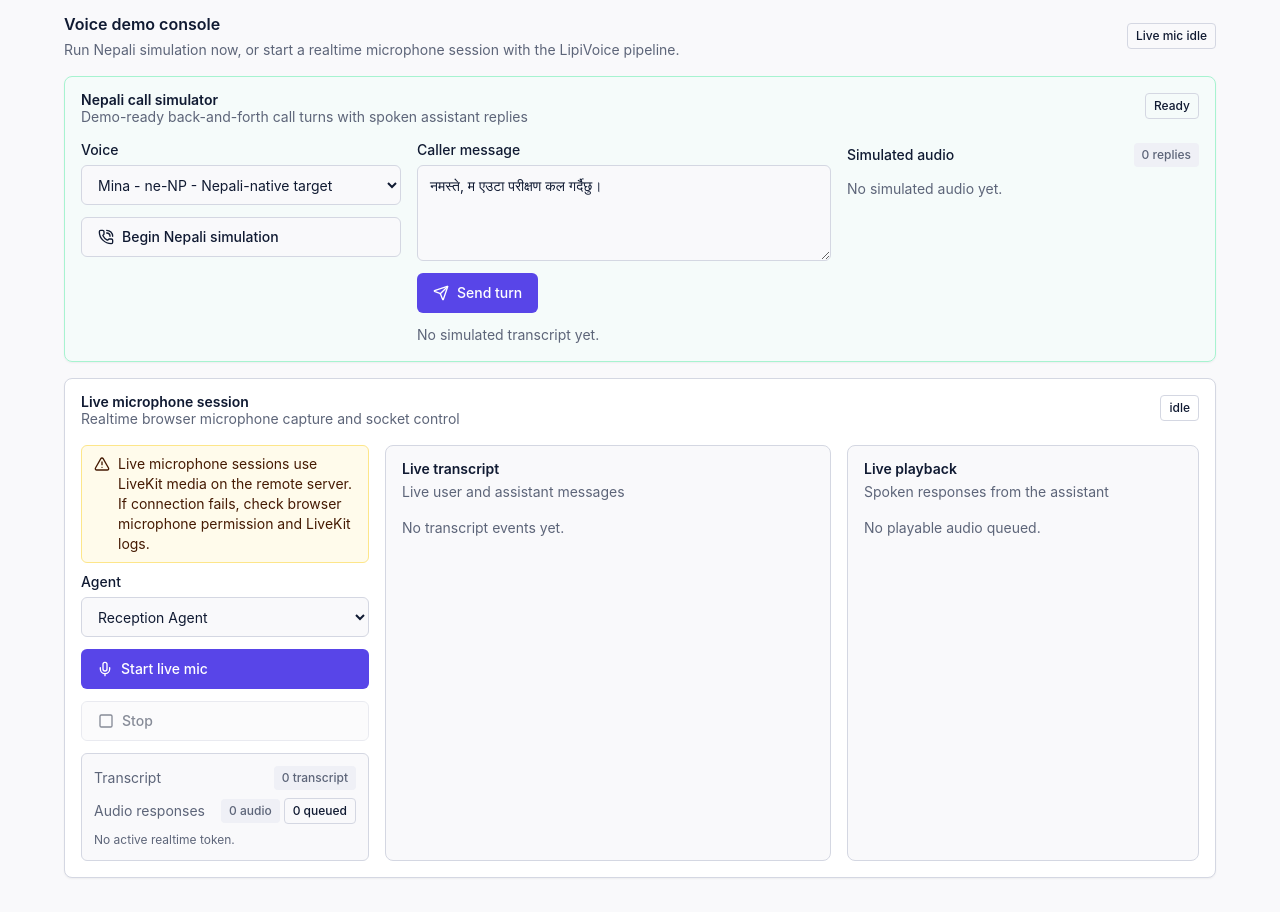
VoiceConsolePage › loads agents, starts the selected agent session, and shows session metrics
The image size is (1280, 912).
Select "Support Agent" in the dropdown labelled "Agent" at coordinates (225, 617), box [81,597,369,637]
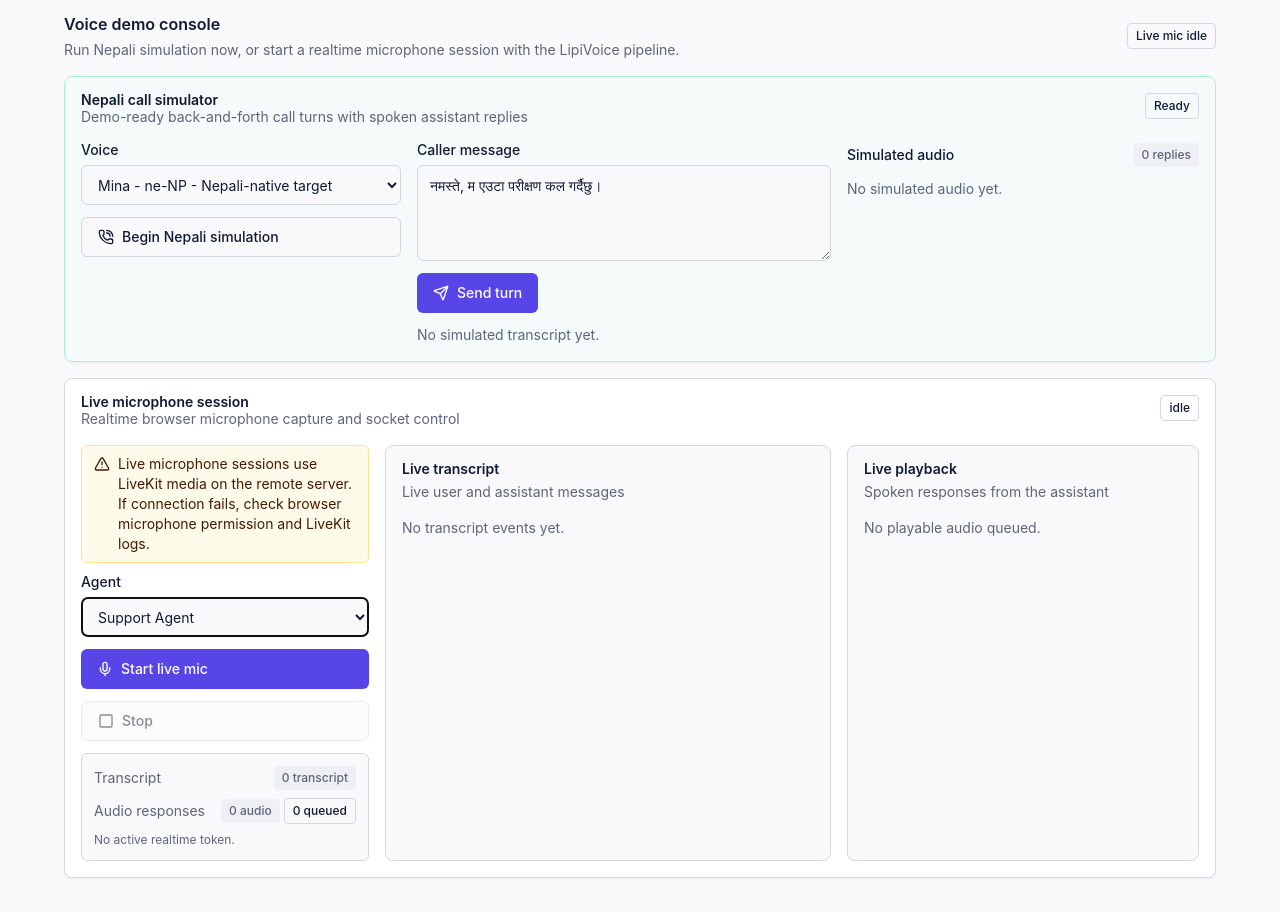
Click the button "Start live mic" at coordinates (164, 668), box [81,649,369,689]
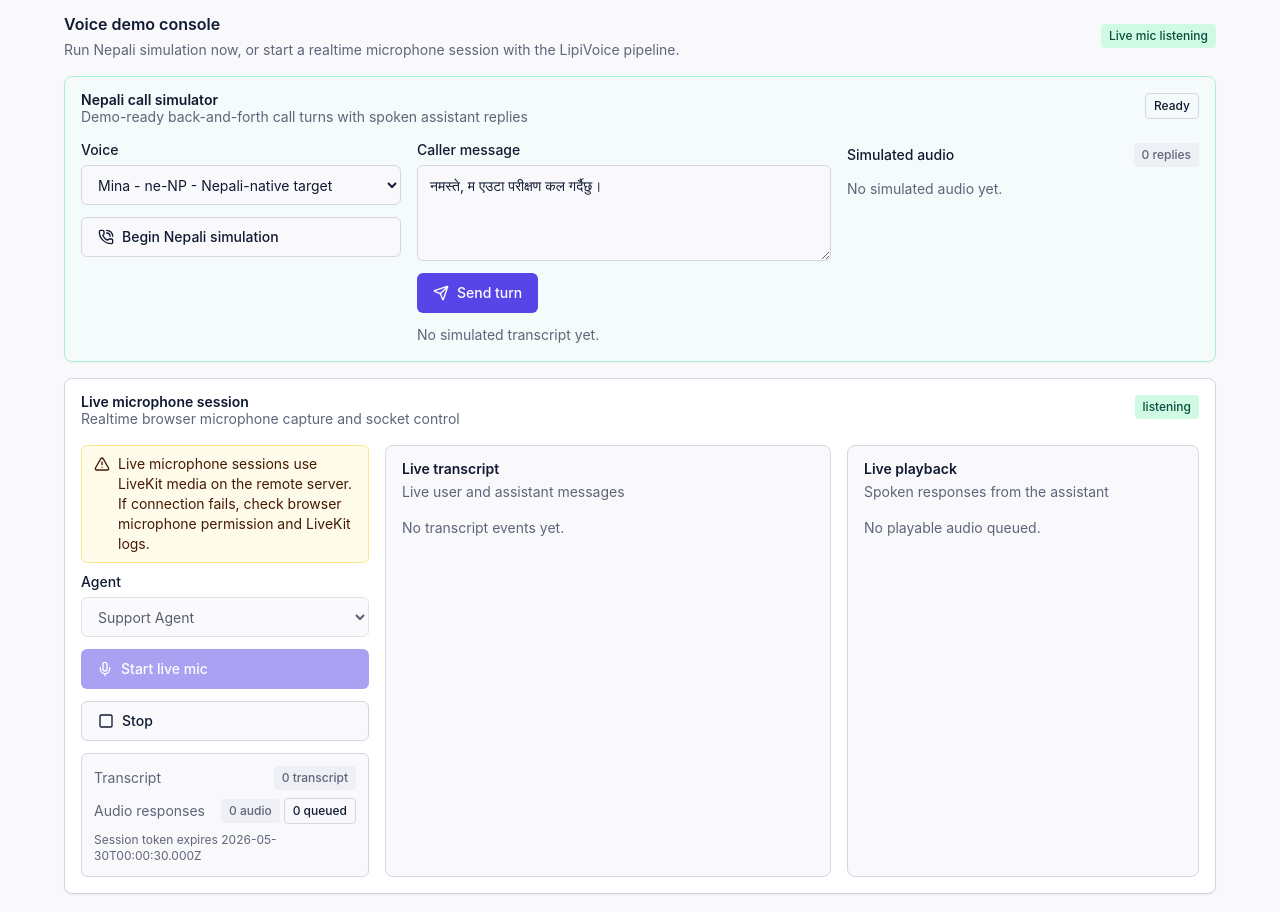
expect the text "0 transcript" is shown: met, box [274,766,356,790]
expect the text "Session token expires 2026-05-30T00:00:30.000Z" is shown: met, box [94,832,277,863]
